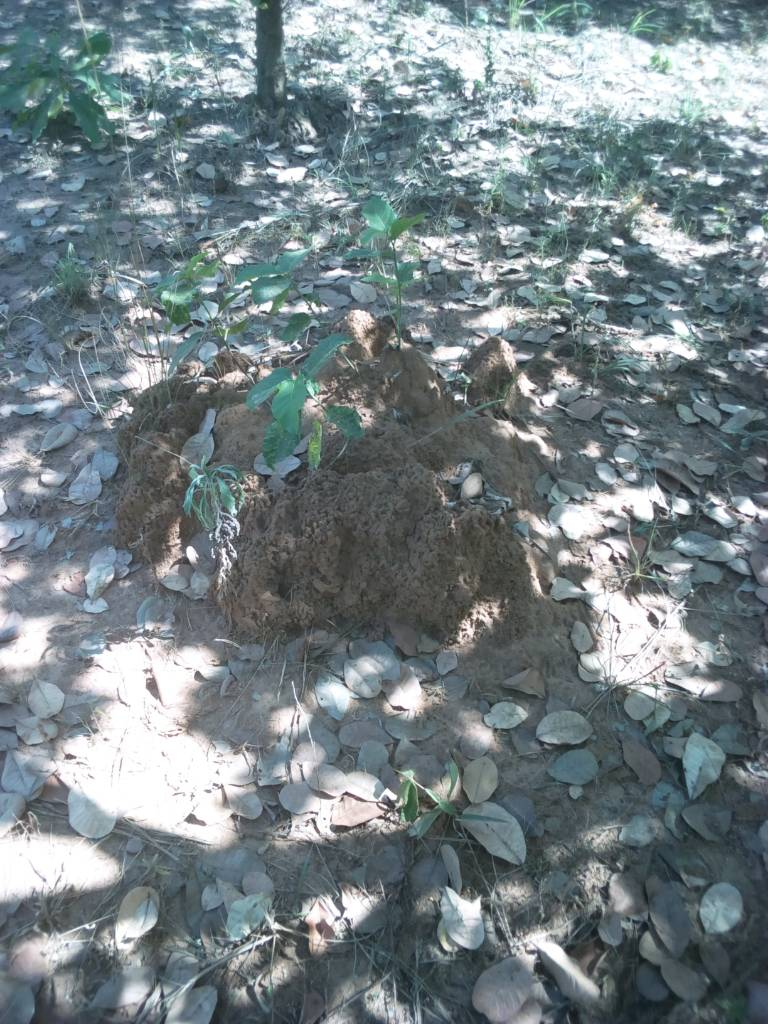Termites: (130, 353, 550, 628)
